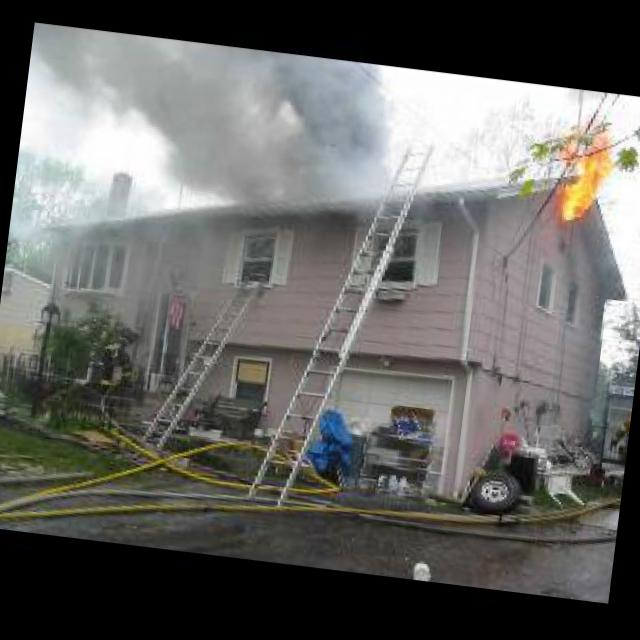fire: (551, 136, 613, 222)
smoke: (15, 22, 401, 222)
